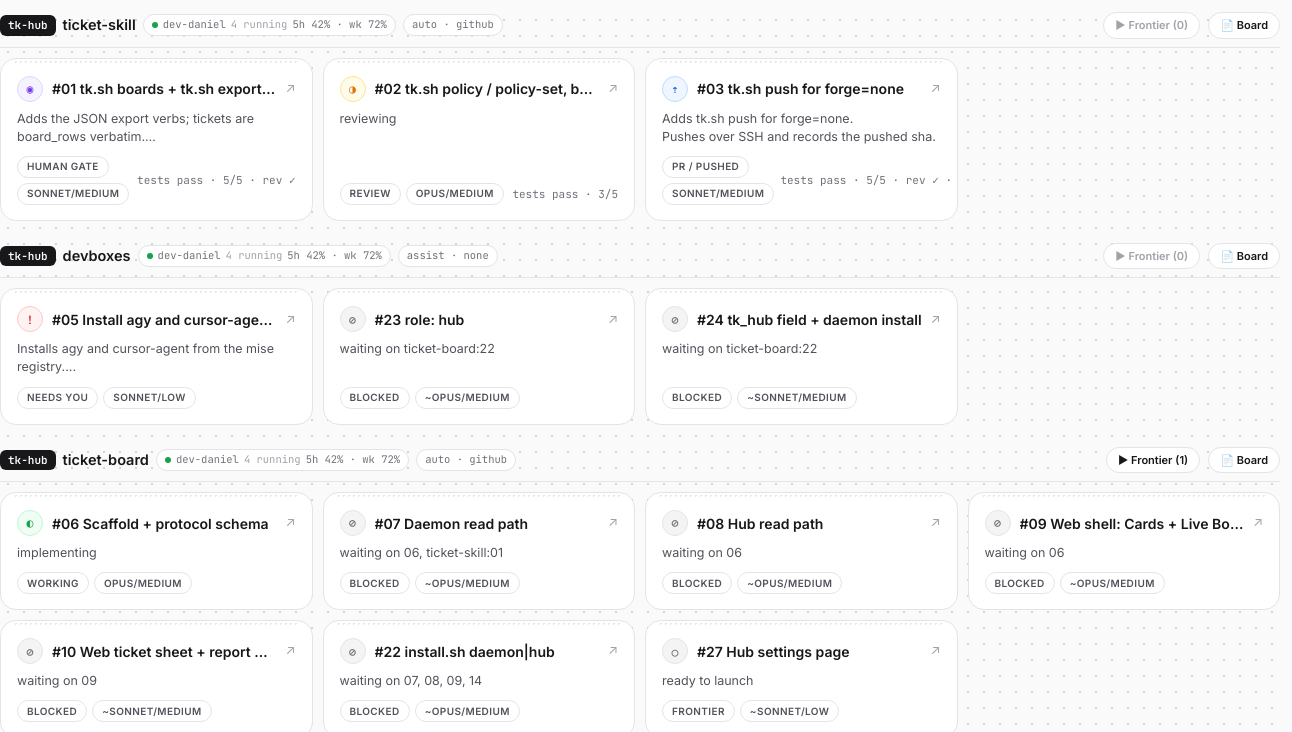
Test: frontier › ▶ Frontier shows a spinner and stays disabled while its POST is in flight
Step 1. Click the button "▶ Frontier (1)" → coordinates (1153, 460), box [1106,446,1200,473]
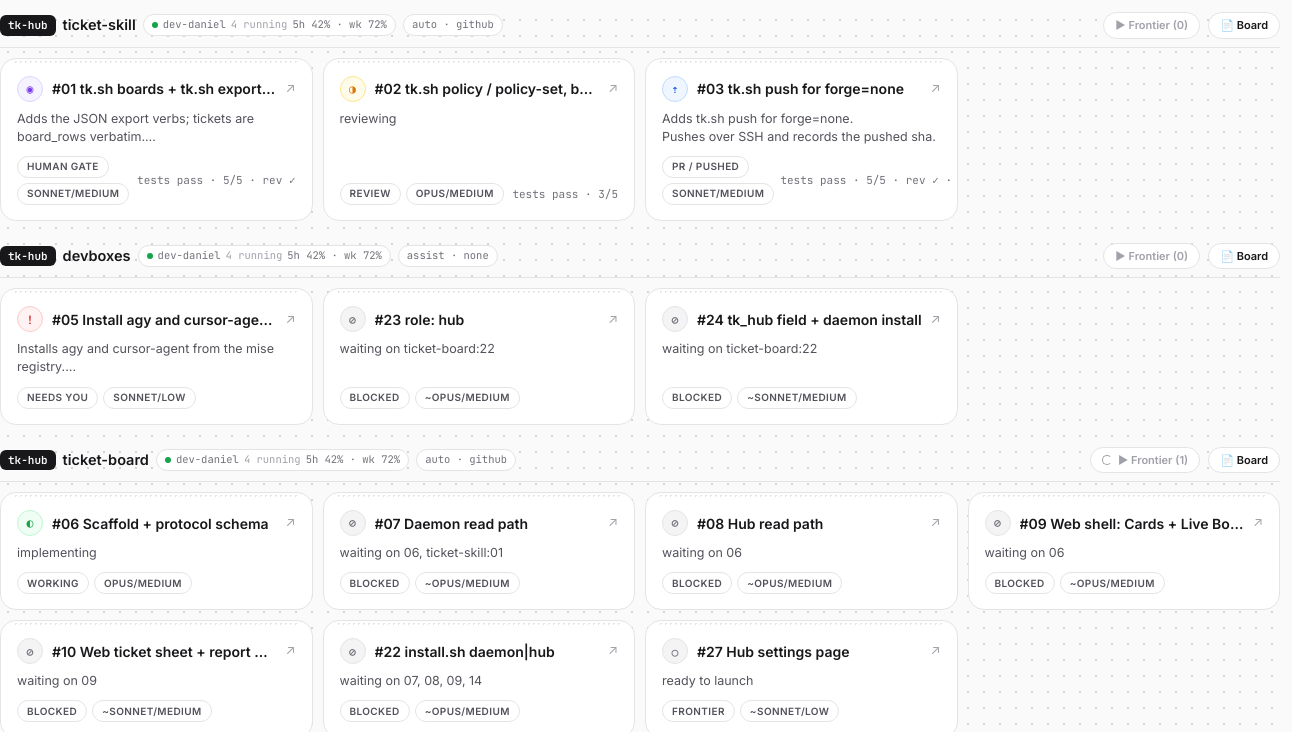
Check: the button "▶ Frontier (1)" is disabled
Step 2. Click the button "▶ Frontier (1)" → coordinates (1145, 460), box [1090,446,1200,473]
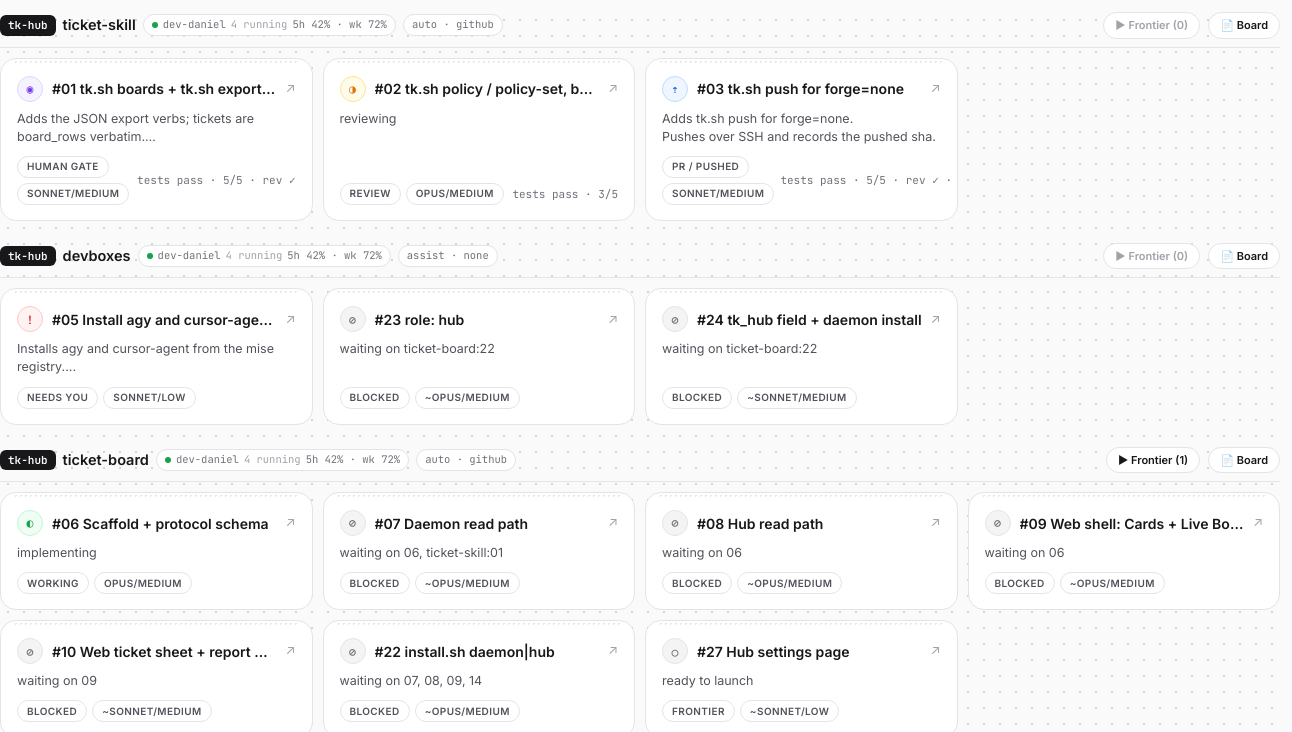
Check: the button "▶ Frontier (1)" is enabled, box [1106,446,1200,473]
